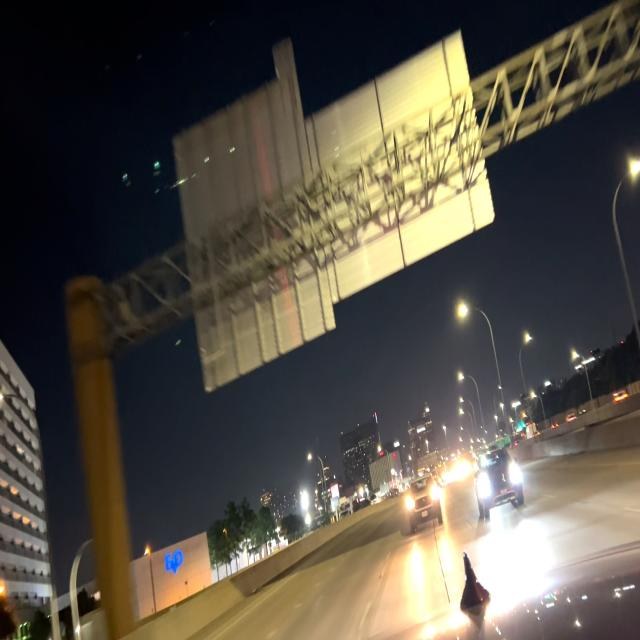back-of-sign: (172, 33, 495, 396)
